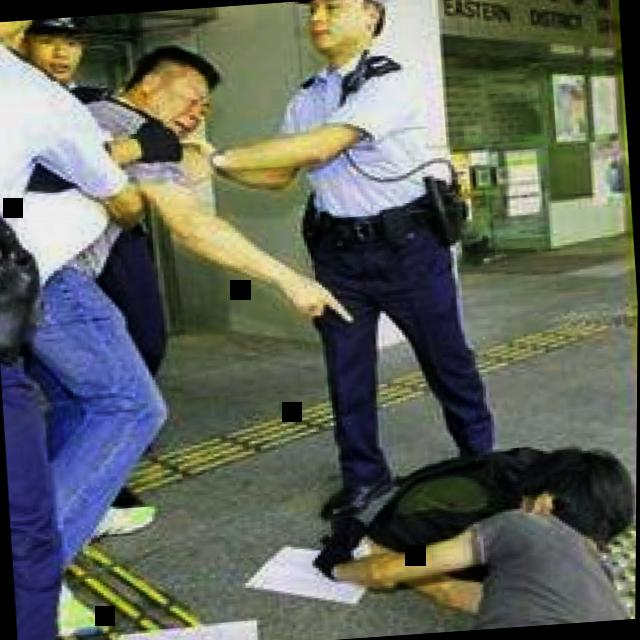Fall-Detected: (291, 410, 638, 640)
